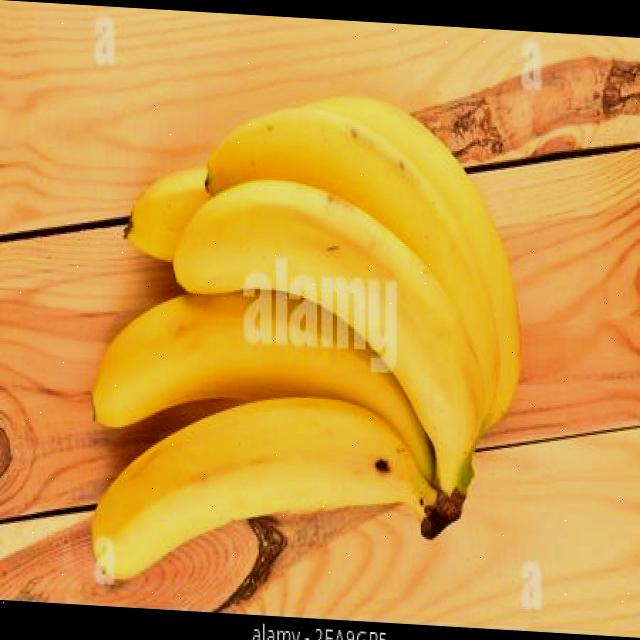banana: (78, 74, 524, 611)
